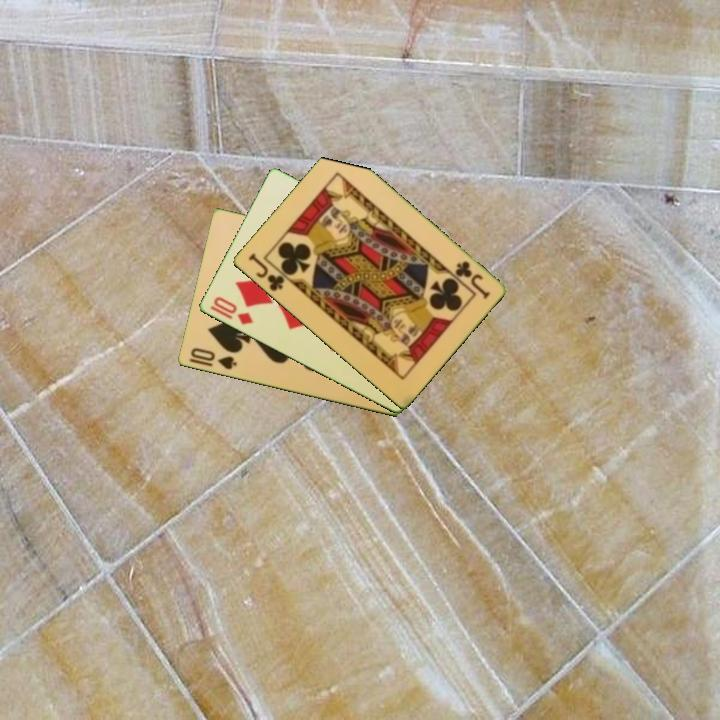10d: (210, 293, 256, 328)
10s: (187, 344, 239, 373)
Jc: (244, 249, 287, 294), (451, 257, 492, 302)
